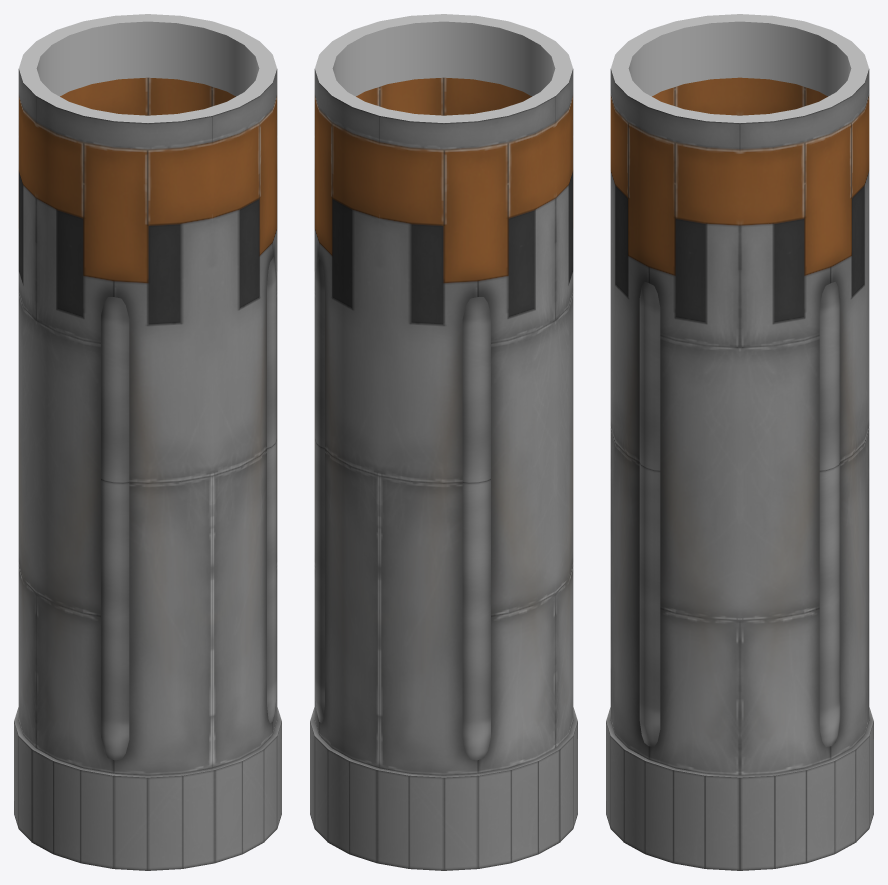
File: Titan4_FirstStage1.dae
The picture shows the model from 3 angles, left to right: view 1: azimuth 30°, elevation 25°; view 2: azimuth 150°, elevation 25°; view 3: azimuth 270°, elevation 25°; orthographic projection.
Parts seen in each view (by area): view 1: Tank, Rims, FuelTankRib20, FuelTankRib20_ncl1_1; view 2: Tank, Rims, FuelTankRib20_ncl1_3, FuelTankRib20_ncl1_2; view 3: Tank, Rims, FuelTankRib20_ncl1_1, FuelTankRib20_ncl1_2.
Part boxes in pixels (<box>): Tank: <box>14,69,281,870</box>; Rims: <box>19,14,276,122</box>; FuelTankRib20: <box>101,297,129,760</box>; FuelTankRib20_ncl1_1: <box>267,257,276,723</box>; Tank: <box>310,69,577,870</box>; Rims: <box>315,14,572,122</box>; FuelTankRib20_ncl1_3: <box>462,297,490,760</box>; FuelTankRib20_ncl1_2: <box>315,257,324,723</box>; Tank: <box>606,69,873,870</box>; Rims: <box>611,14,868,122</box>; FuelTankRib20_ncl1_1: <box>639,282,660,746</box>; FuelTankRib20_ncl1_2: <box>819,282,840,746</box>.
Size of the model in its own units: 1.94 by 5.97 by 1.94.
